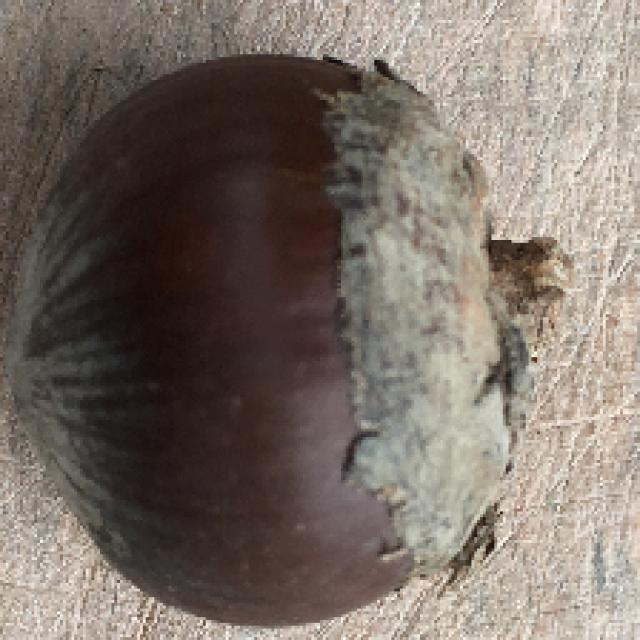damagedHazelnut: (12, 45, 572, 621)
